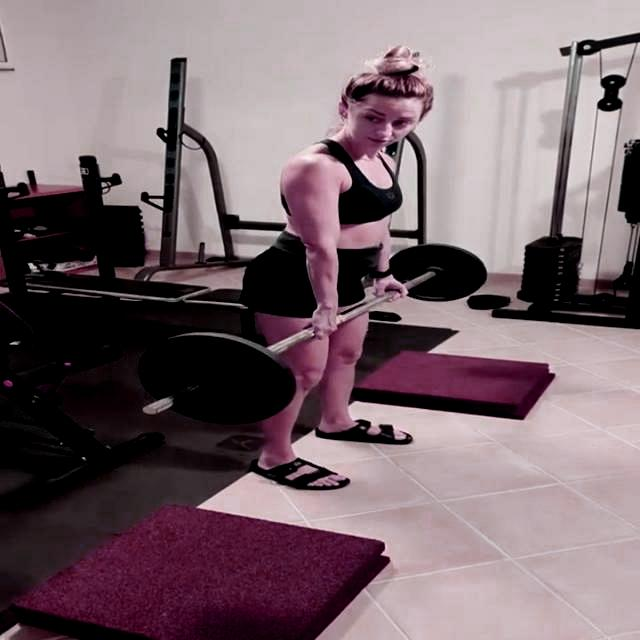barbell: (130, 327, 301, 430)
